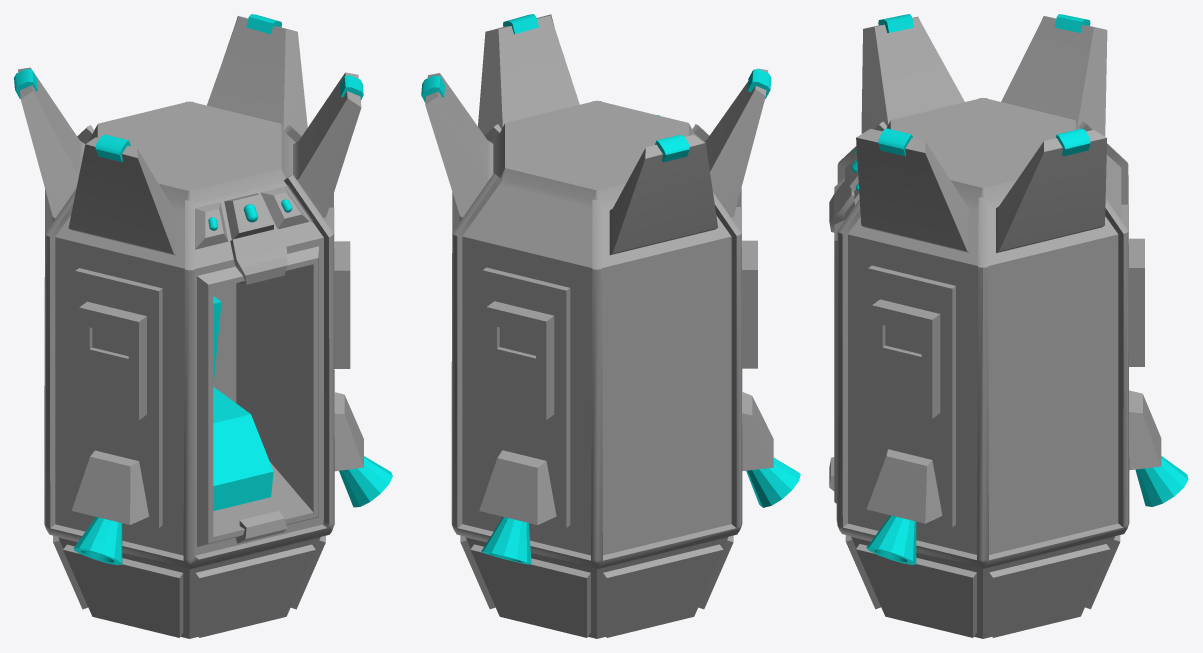
File: DropPodUVd.fbx
3 renders of one model, left to right at view 1: azimuth 30°, elevation 25°; view 2: azimuth 150°, elevation 25°; view 3: azimuth 270°, elevation 25°, orthographic.
Visible parts, largest first — view 1: pod_body, pCube1, pCylinder3, pCylinder2, pCube6; view 2: pod_body, pCylinder4, pCylinder3, pCube7; view 3: pod_body, pCylinder2, pCylinder4, pCube5, pCube3.
Boxes of the visible parts, x1=… form: pod_body: x1=18, y1=16, x2=363, y2=638; pCube1: x1=213, y1=296, x2=273, y2=510; pCylinder3: x1=73, y1=517, x2=122, y2=565; pCylinder2: x1=339, y1=456, x2=392, y2=507; pCube6: x1=95, y1=134, x2=130, y2=161; pod_body: x1=425, y1=14, x2=773, y2=638; pCylinder4: x1=481, y1=517, x2=531, y2=564; pCylinder3: x1=746, y1=458, x2=800, y2=507; pCube7: x1=655, y1=134, x2=689, y2=162; pod_body: x1=829, y1=16, x2=1161, y2=638; pCylinder2: x1=866, y1=515, x2=916, y2=564; pCylinder4: x1=1135, y1=456, x2=1188, y2=506; pCube5: x1=1056, y1=128, x2=1090, y2=156; pCube3: x1=878, y1=128, x2=912, y2=156.
Size of the model in its own units: 57.38 by 90.13 by 56.78.
